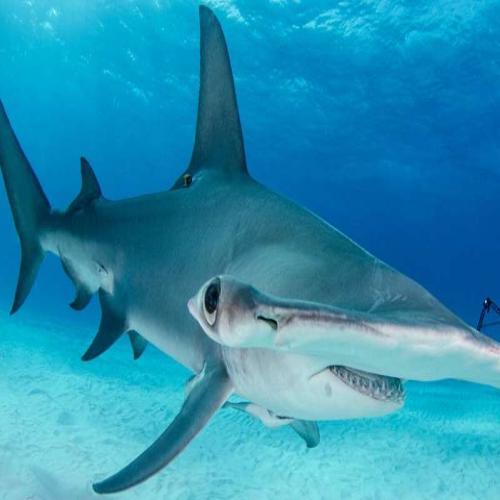shark-endangered: (8, 21, 493, 464)
